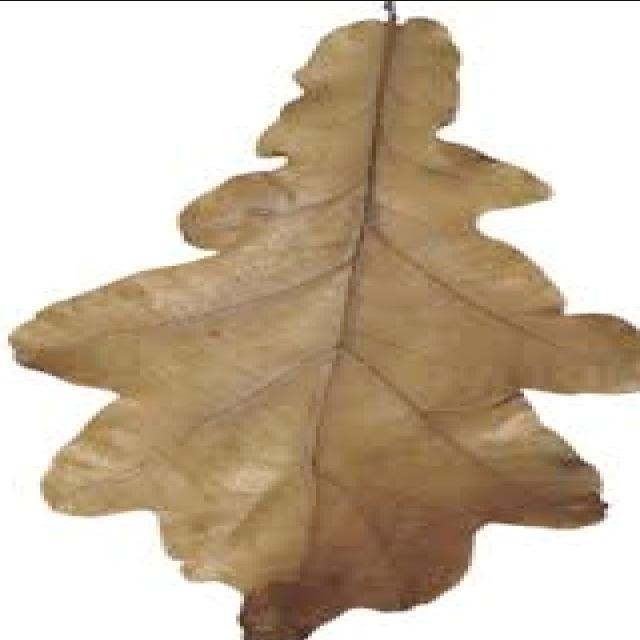leaf: (7, 16, 638, 638)
